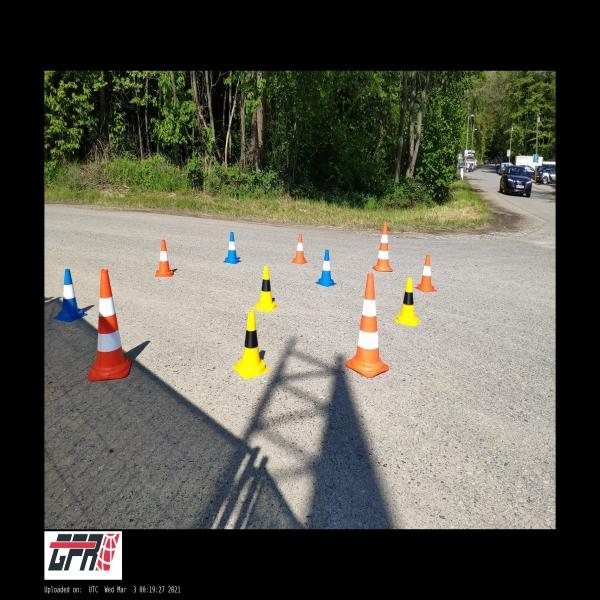blue_cone: (53, 269, 87, 321), (317, 249, 336, 287), (223, 232, 241, 264)
large_orange_cone: (87, 269, 132, 381), (346, 274, 390, 378), (373, 222, 394, 272)
orange_cone: (415, 255, 437, 292), (155, 240, 174, 277), (292, 234, 306, 263)
yellow_cone: (233, 311, 270, 379), (394, 278, 421, 326), (253, 266, 278, 311)
